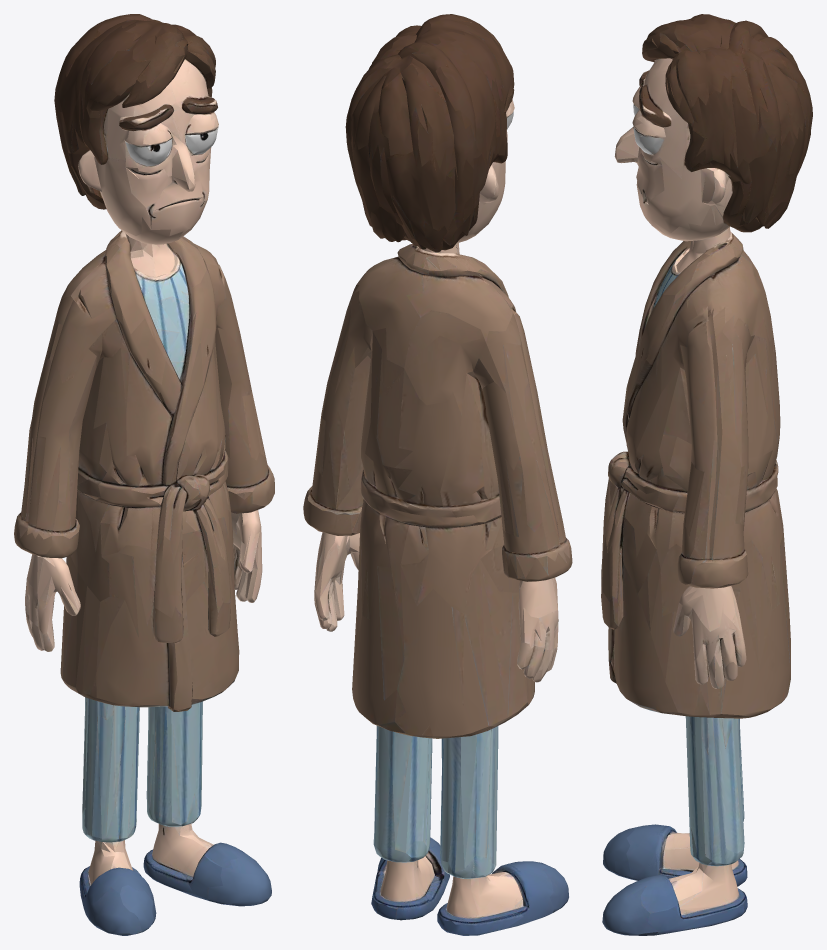
Rendered from jerry-robe.glb.
The picture shows the model from 3 angles, left to right: view 1: azimuth 30°, elevation 25°; view 2: azimuth 150°, elevation 25°; view 3: azimuth 270°, elevation 25°; orthographic projection. The views are drawn at different scales.
Size of the model in its own units: 0.5841 by 1.9 by 0.4176.
Materials: 1 (1 with a texture image).
